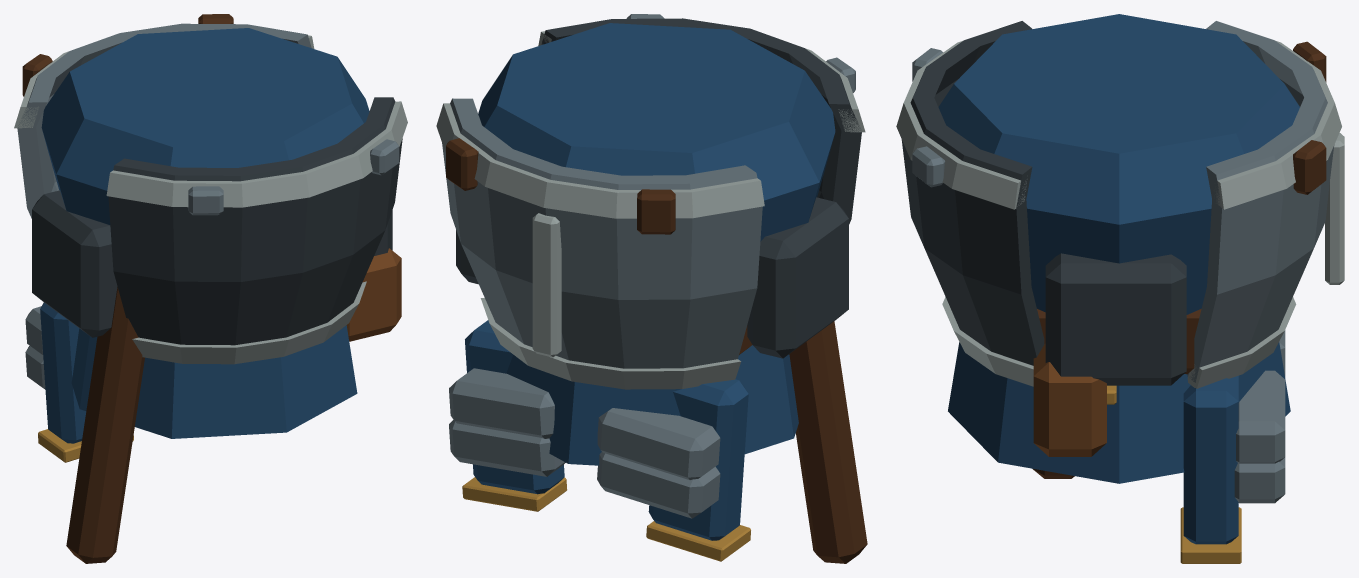
Rendered from Body.glb.
3 views of the same model, side by side, from view 1: azimuth 30°, elevation 25°; view 2: azimuth 150°, elevation 25°; view 3: azimuth 270°, elevation 25° (orthographic). The views are drawn at different scales.
Visible parts, largest first — view 1: Sculpture; view 2: Sculpture; view 3: Sculpture.
Boxes of the visible parts, left/top/right/bottom form: Sculpture: left=14, top=14, right=407, bottom=563; Sculpture: left=436, top=14, right=867, bottom=563; Sculpture: left=896, top=14, right=1344, bottom=563.
Bounding box in the file's own units: 0.6935 × 0.8496 × 0.732.
